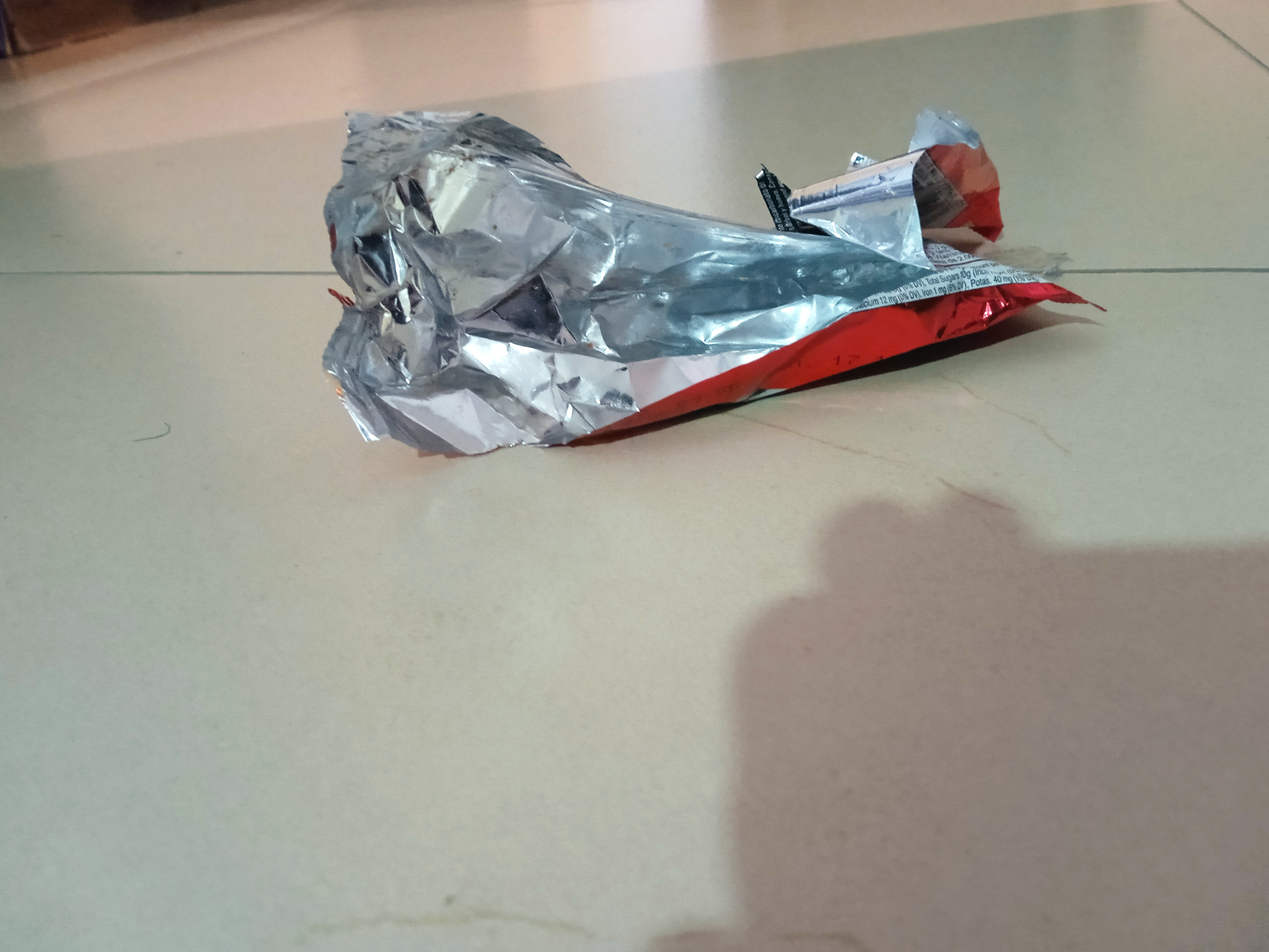plastic: (245, 43, 1112, 501)
